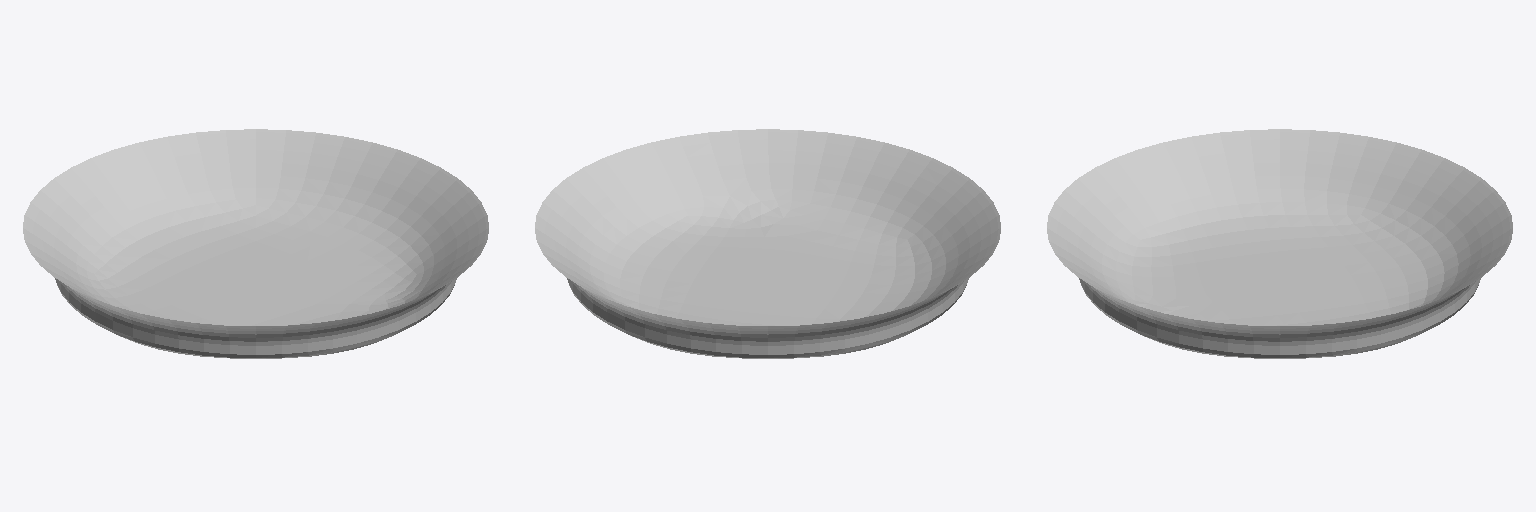
Rendered from plato_06.obj.
3 views of the same model, side by side, from view 1: azimuth 30°, elevation 25°; view 2: azimuth 150°, elevation 25°; view 3: azimuth 270°, elevation 25° (orthographic).
Bounding box in the file's own units: 95.82 × 12.76 × 95.82.